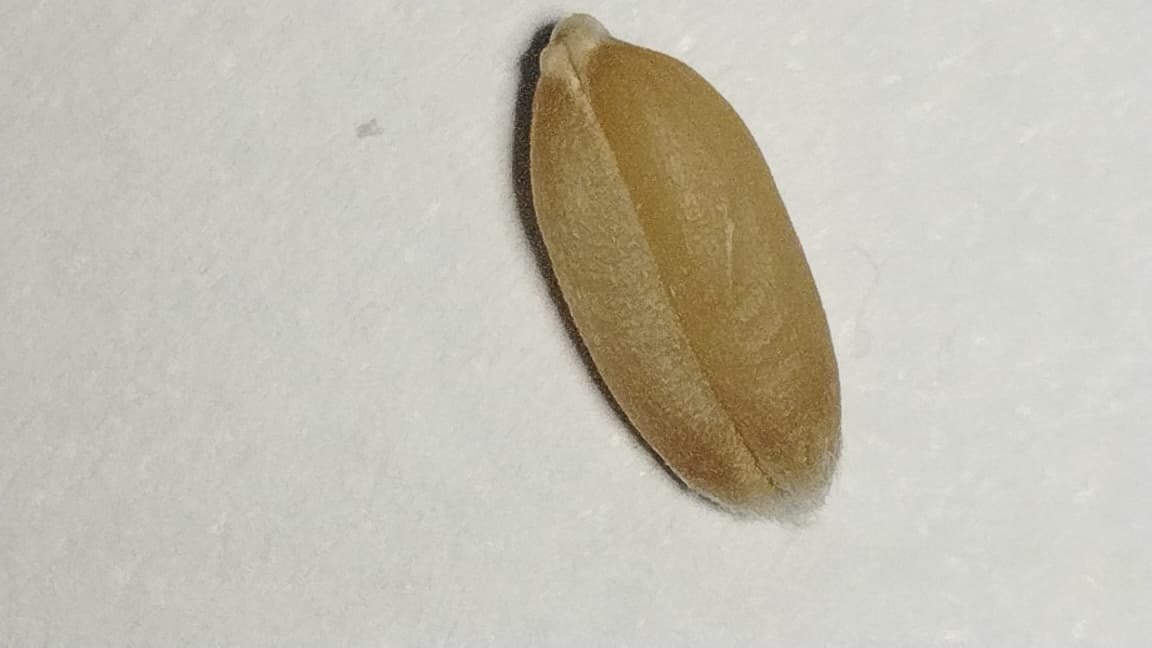healthy: (531, 15, 838, 513)
